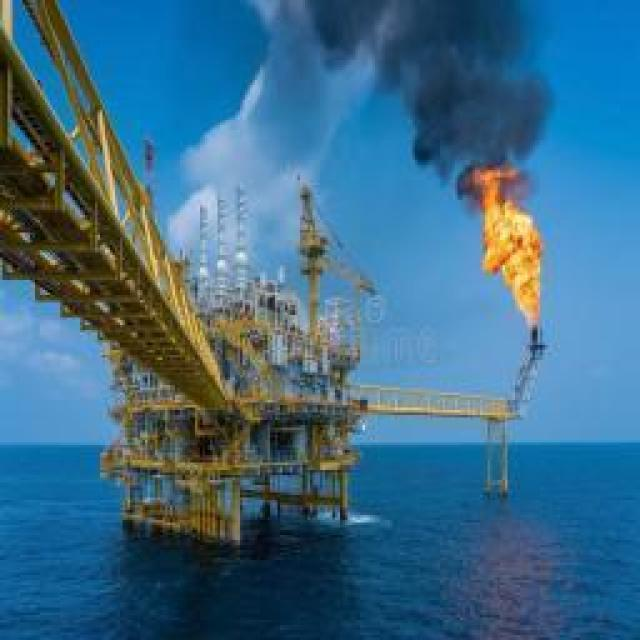fire: (477, 169, 543, 333)
smoke: (307, 0, 552, 218)
